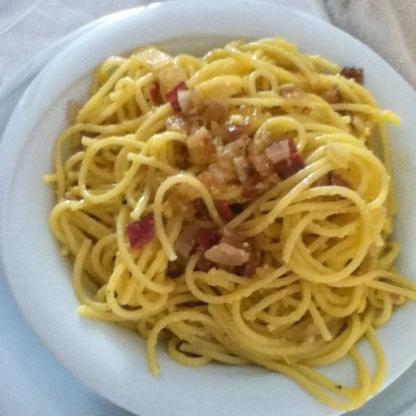pasta: (55, 33, 403, 390)
